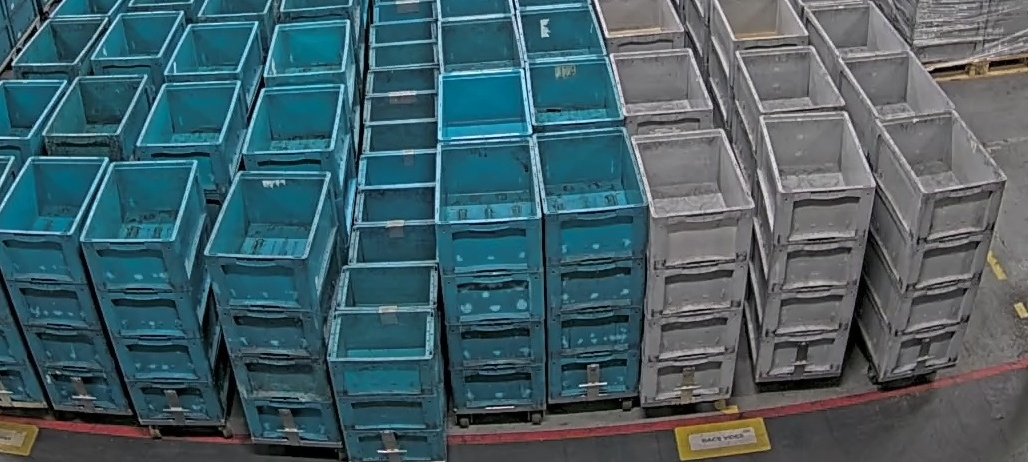4G: (858, 109, 1009, 381), (742, 113, 875, 381), (631, 127, 756, 404)
B4: (80, 160, 232, 420), (202, 170, 339, 442), (0, 155, 134, 415), (535, 126, 649, 403), (435, 137, 543, 414)
B8: (326, 264, 445, 461)
